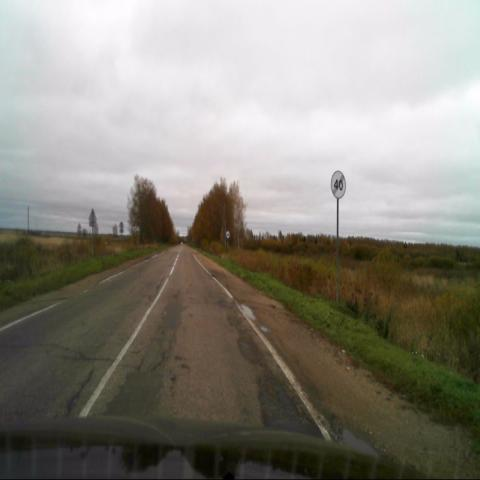3_25: (330, 169, 346, 199)
